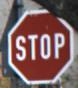Stop sign: (0, 0, 77, 87)
